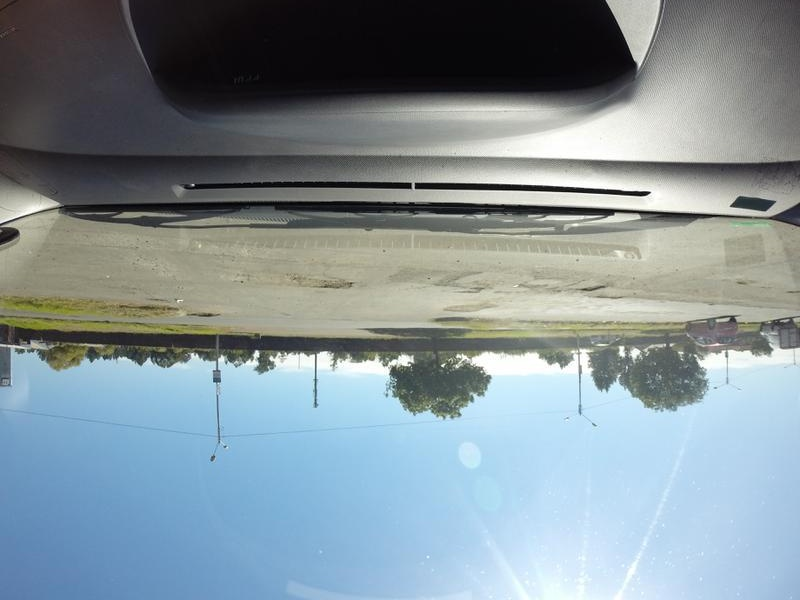pothole: (403, 263, 489, 295), (281, 270, 360, 299), (444, 297, 505, 316), (520, 267, 554, 296), (187, 304, 231, 324), (590, 289, 627, 309), (732, 271, 759, 293), (575, 277, 606, 294)
